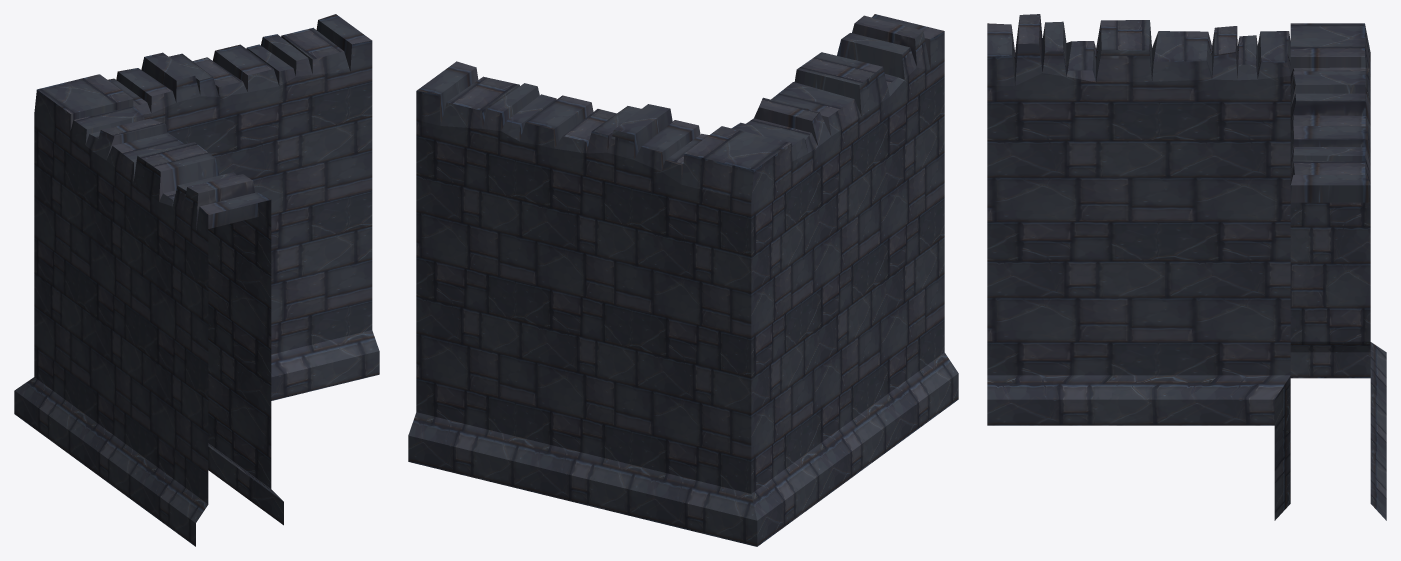
Rendered from Ruins_Corner_002.fbx.
The picture shows the model from 3 angles, left to right: view 1: azimuth 30°, elevation 25°; view 2: azimuth 150°, elevation 25°; view 3: azimuth 270°, elevation 25°; orthographic projection. The views are drawn at different scales.
Visible parts, largest first — view 1: Ruins_Corner_002; view 2: Ruins_Corner_002; view 3: Ruins_Corner_002.
Boxes of the visible parts, x1,y1,x2,y2 form: Ruins_Corner_002: (14, 14, 379, 546); Ruins_Corner_002: (408, 14, 958, 546); Ruins_Corner_002: (987, 14, 1386, 520).
Size of the model in its own units: 5 by 5.15 by 5.
Materials: 1 (1 with a texture image).
